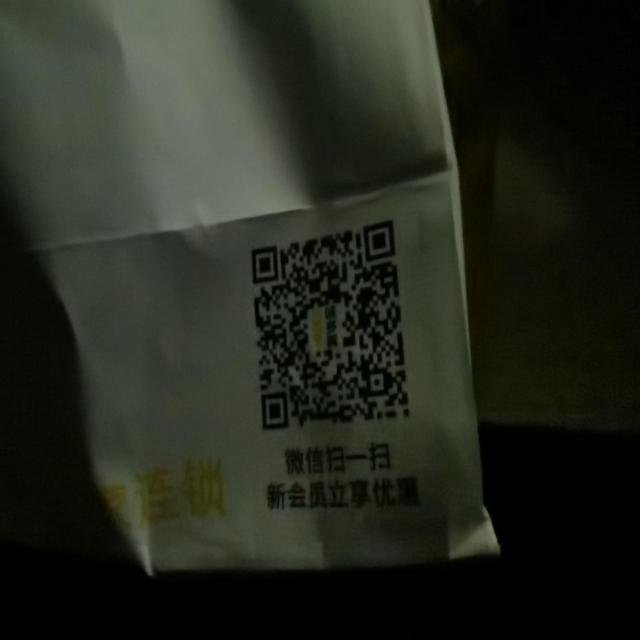qr_code: (251, 218, 411, 432)
